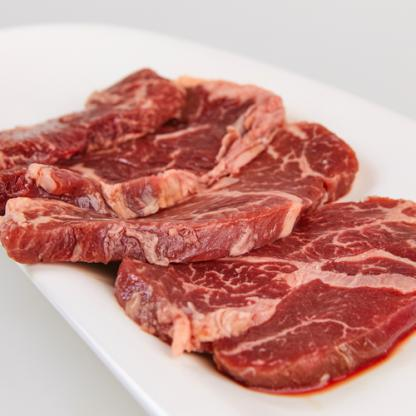beef: (10, 62, 416, 381)
